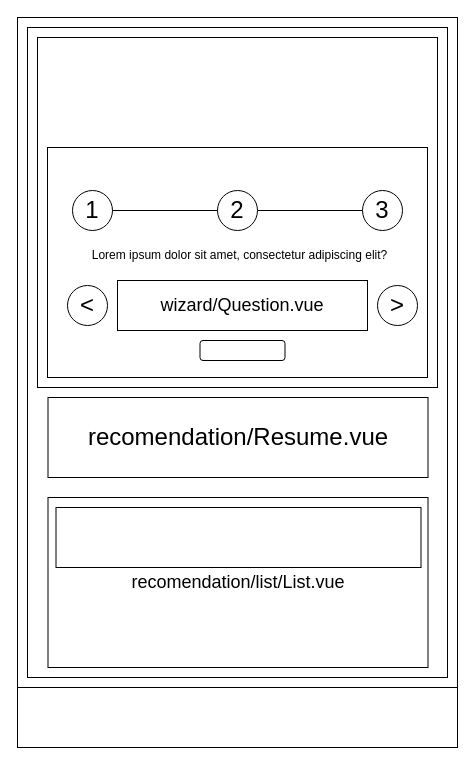
Some shapes in this 475 by 765 pixel diagram are drawn without their labels. The box of each missing label's shape, as (x1, y1, x2, y2) in pixels:
recomendation/list/Detail.vue: (55, 506, 421, 568)
Reset: (199, 340, 285, 360)
ui/TheFooter.vue: (16, 686, 458, 748)
ui/TheHeader.vue: (36, 36, 438, 388)
